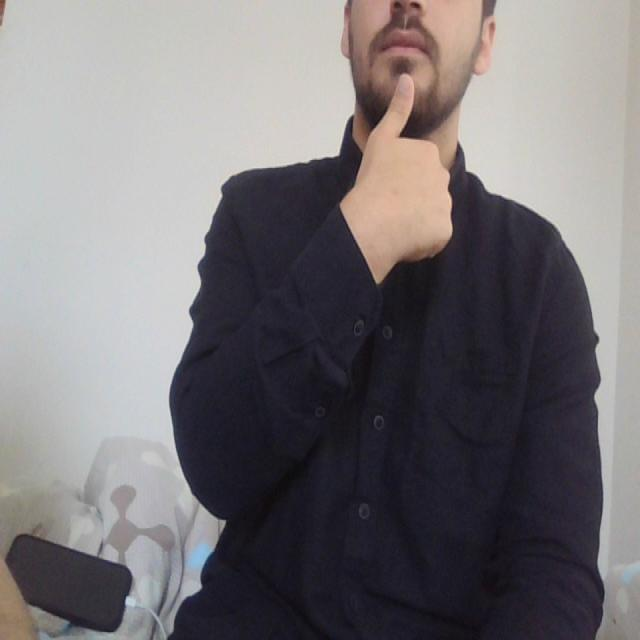Baba: (356, 19, 441, 145)
